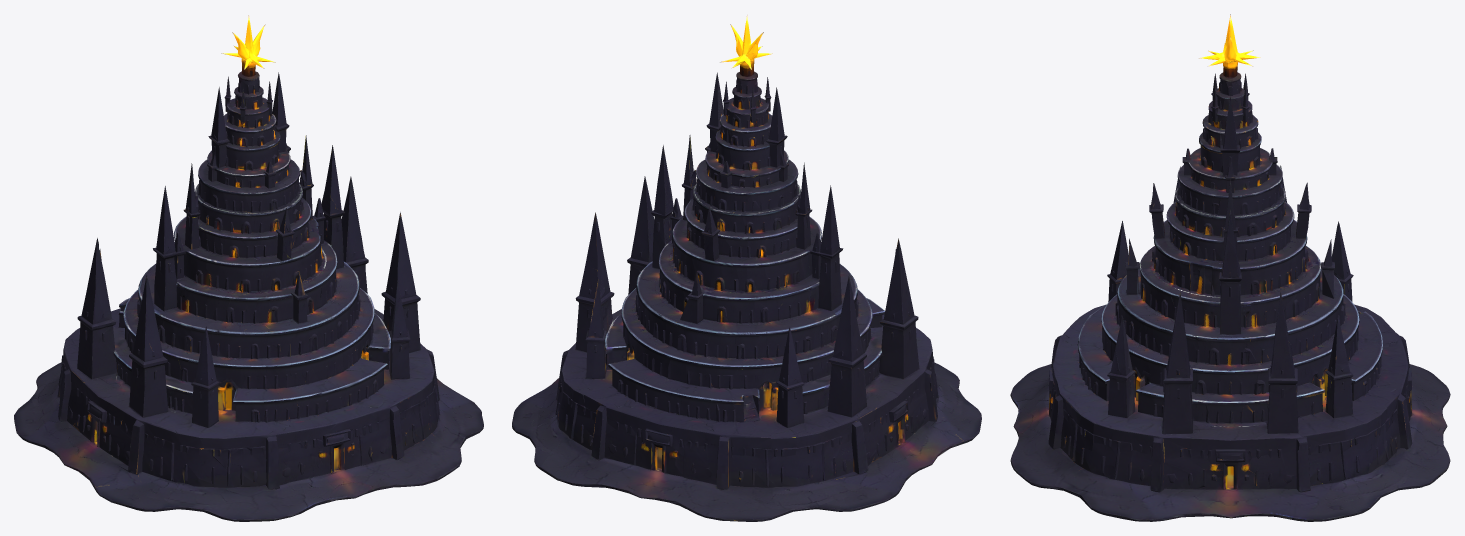
The model's file is volcano-fortress-mesh.glb.
3 views of the same model, side by side, from view 1: azimuth 30°, elevation 25°; view 2: azimuth 150°, elevation 25°; view 3: azimuth 270°, elevation 25° (orthographic).
Parts seen in each view (by area): view 1: Mesh_0; view 2: Mesh_0; view 3: Mesh_0.
Boxes of the visible parts, <box> form: Mesh_0: <box>14,15,483,521</box>; Mesh_0: <box>512,15,981,521</box>; Mesh_0: <box>1010,14,1450,521</box>.
Size of the model in its own units: 1.81 by 1.9 by 1.81.
Materials: 1 (1 with a texture image).
